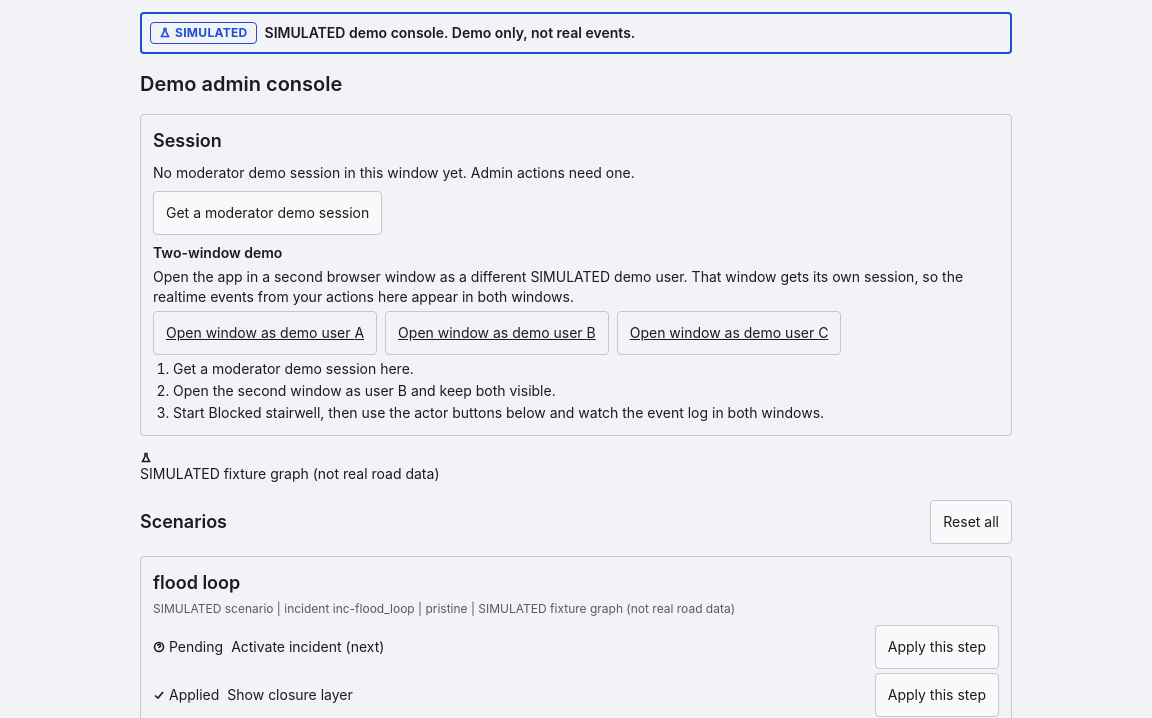
Scenario: DemoAdmin scenarios › reset all reports the outcome
Click the button "Reset all": {"x": 971, "y": 522} [930,500,1012,544]
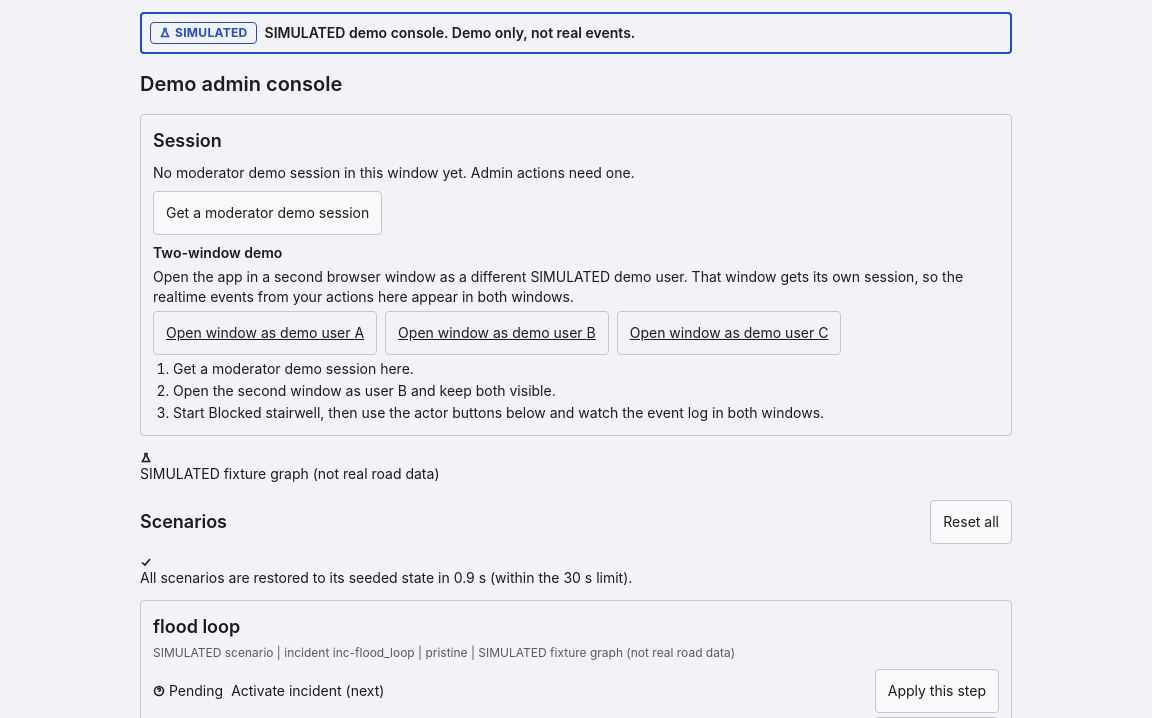
Expected: the message with test id "reset-all-message" shows "restored", [140,569,632,586]
